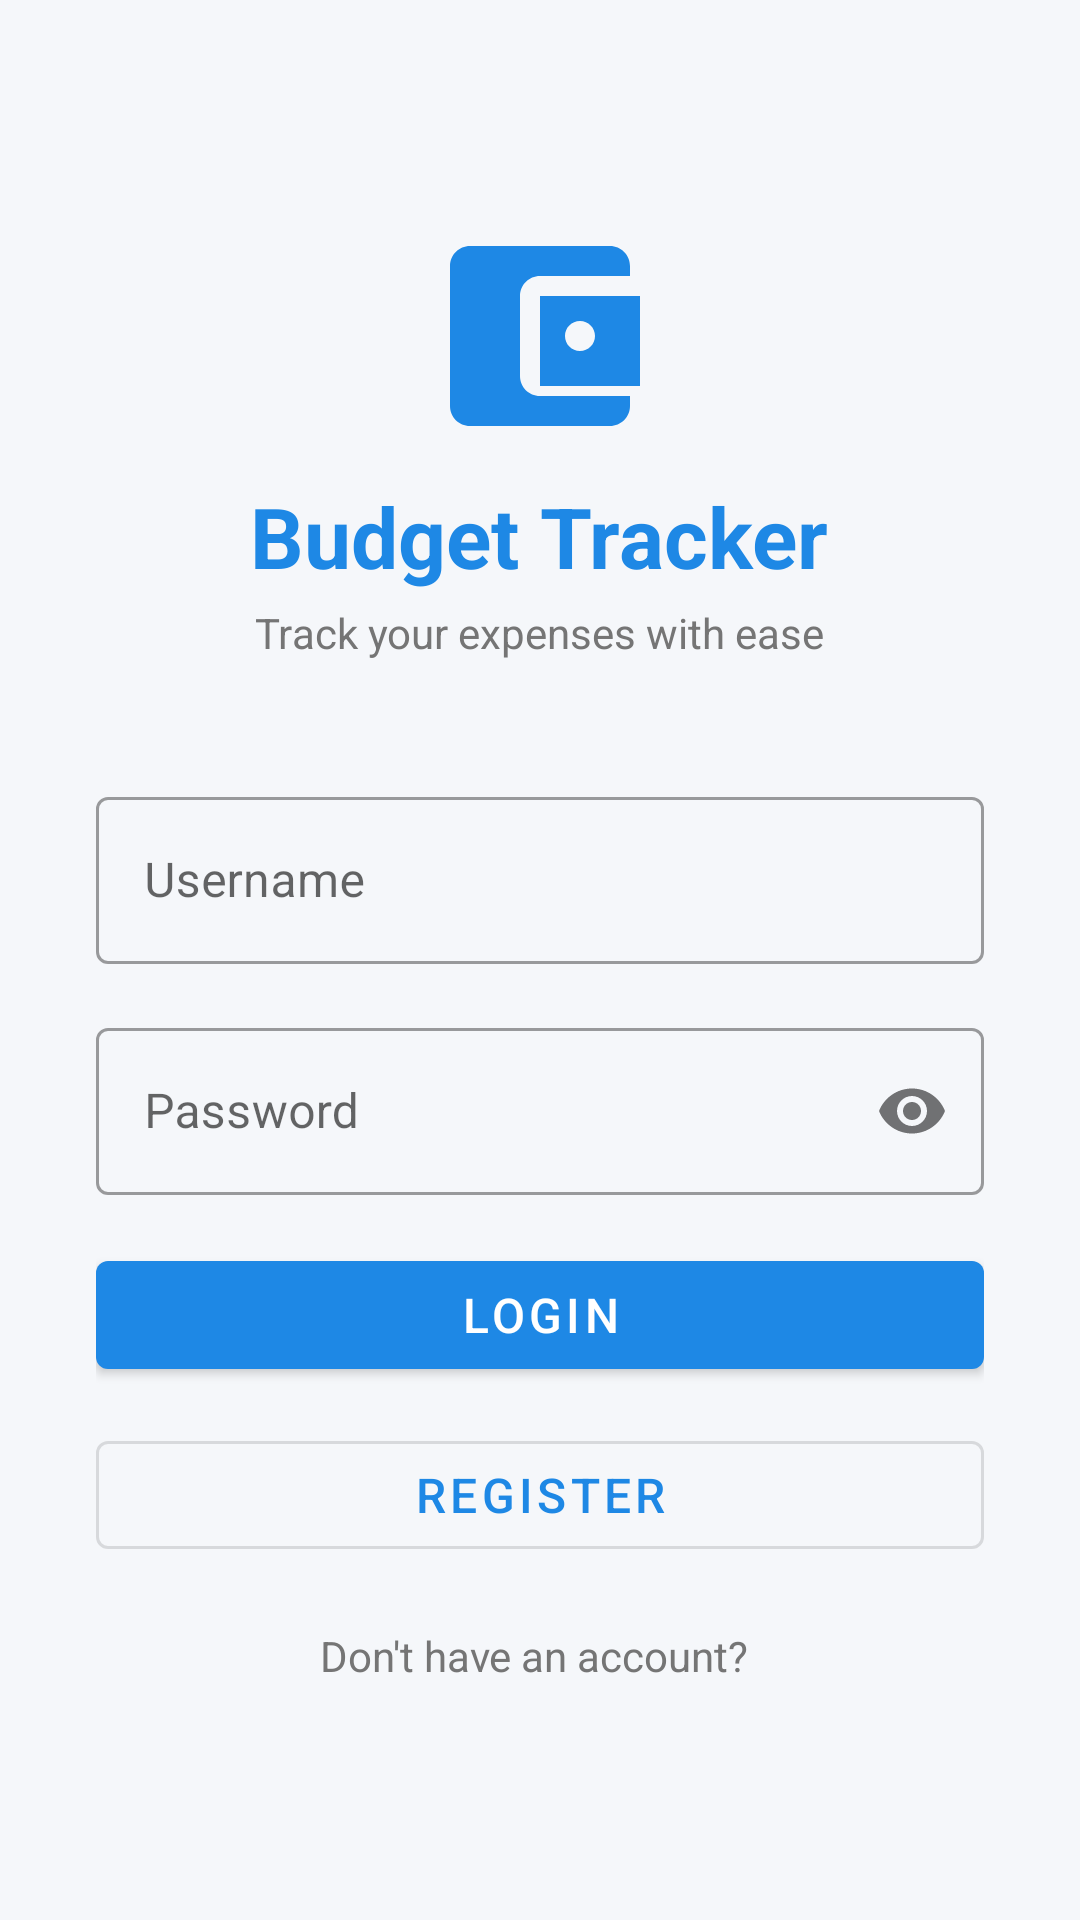

Icons on this 1080px×1920px Android screen, each with the point to tap as point (x, y):
wallet: point (545, 336)
